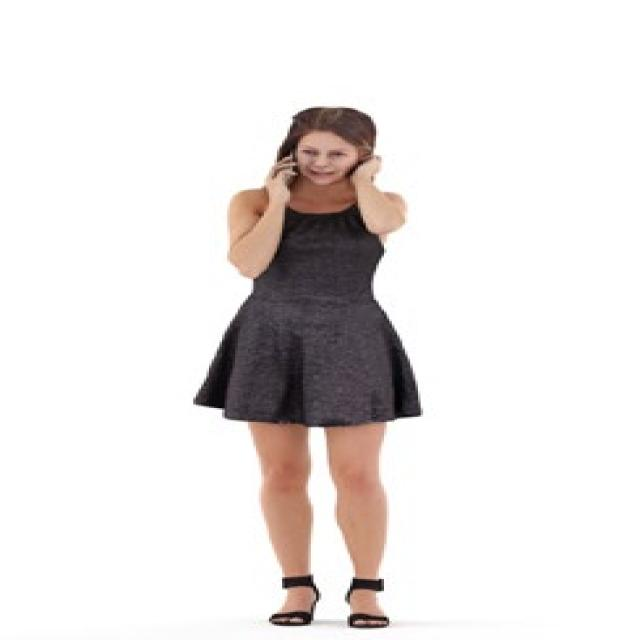standing: (186, 104, 431, 628)
